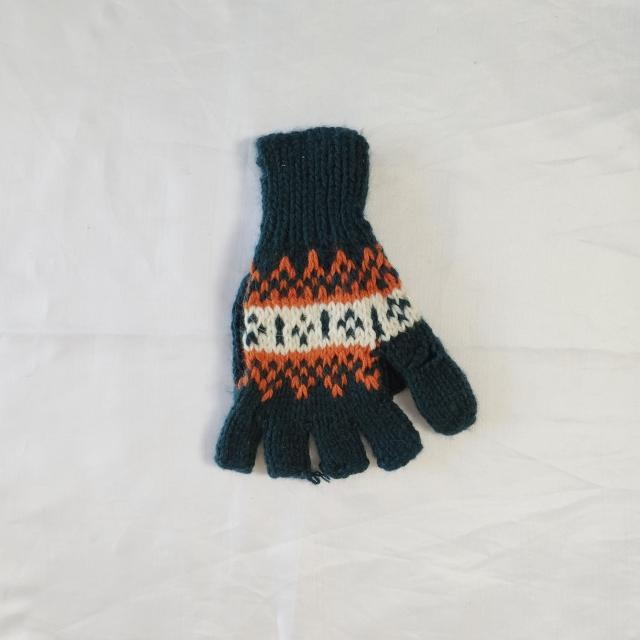Guante: (213, 124, 478, 484)
